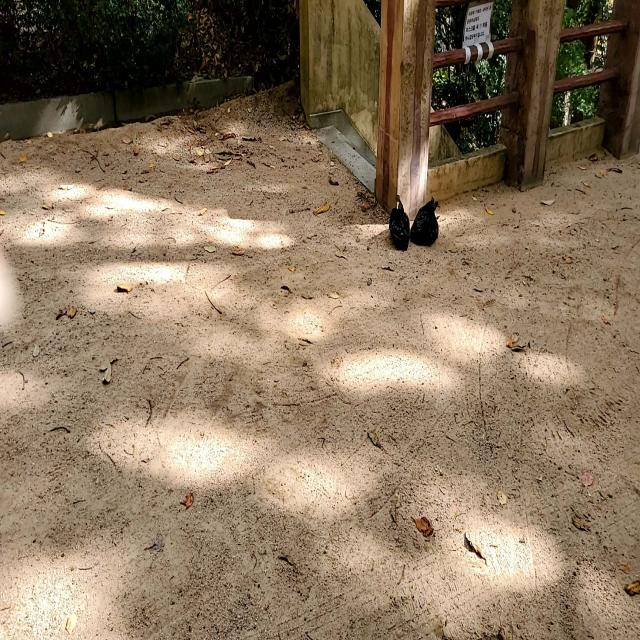garbage bag: (412, 195, 439, 249), (388, 193, 410, 251)
